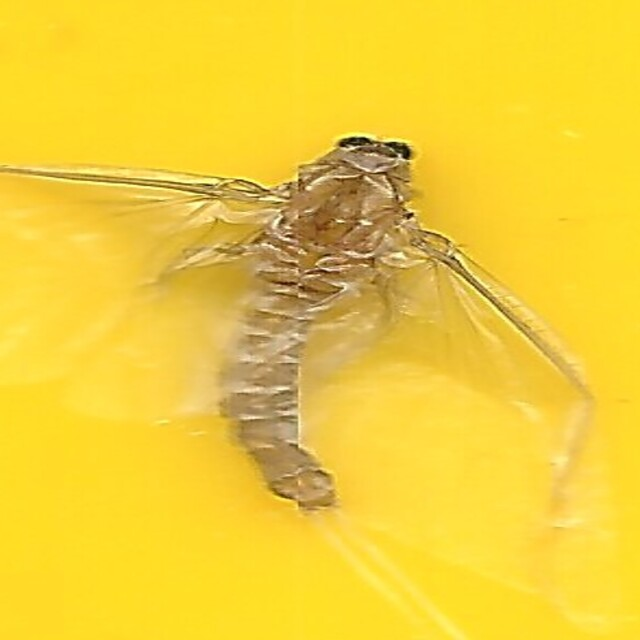Ephemeroptera: (218, 130, 422, 510)
